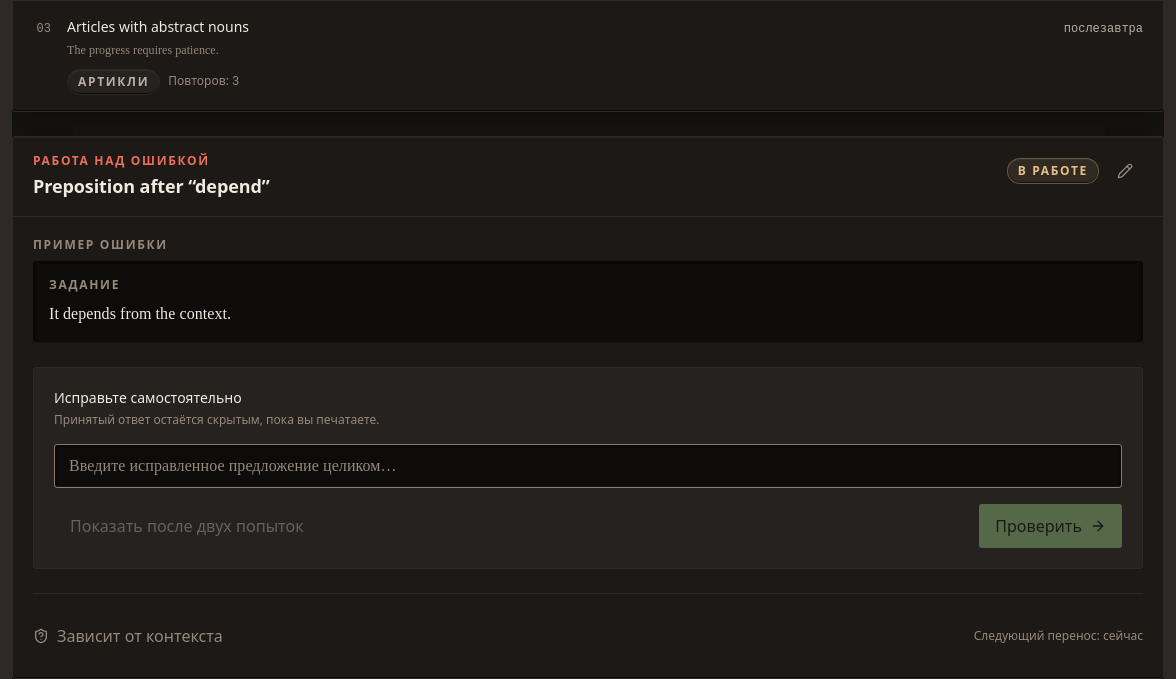
Test: ErrorLabPage localization and due gate › keeps the rule hidden until feedback turns the attempt into supported practice
(page scrolled)
Expected: the text "Use depend on, never depend from." is not shown
Type "This answer is still wrong." into the field named "Ваш исправленный вариант" at (588, 466), box [54,444,1122,488]
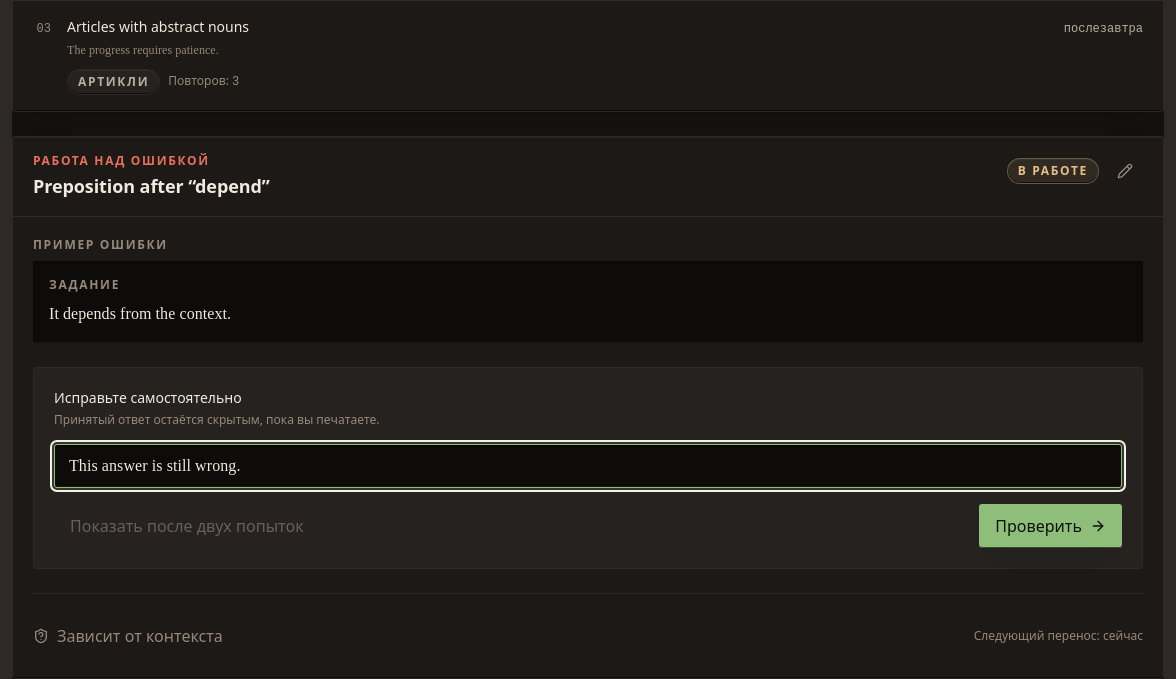
Click the button "Проверить" at (1051, 526), box [979,504,1122,548]
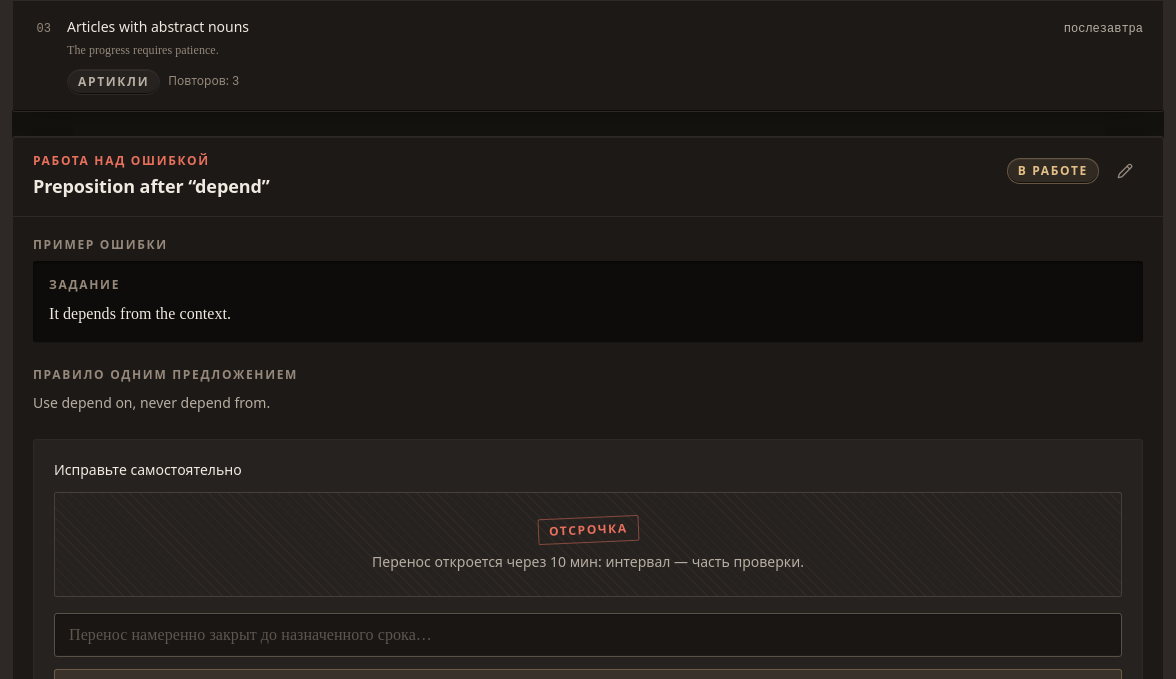
Expected: the text "Use depend on, never depend from." is shown, [33,393,270,412]
